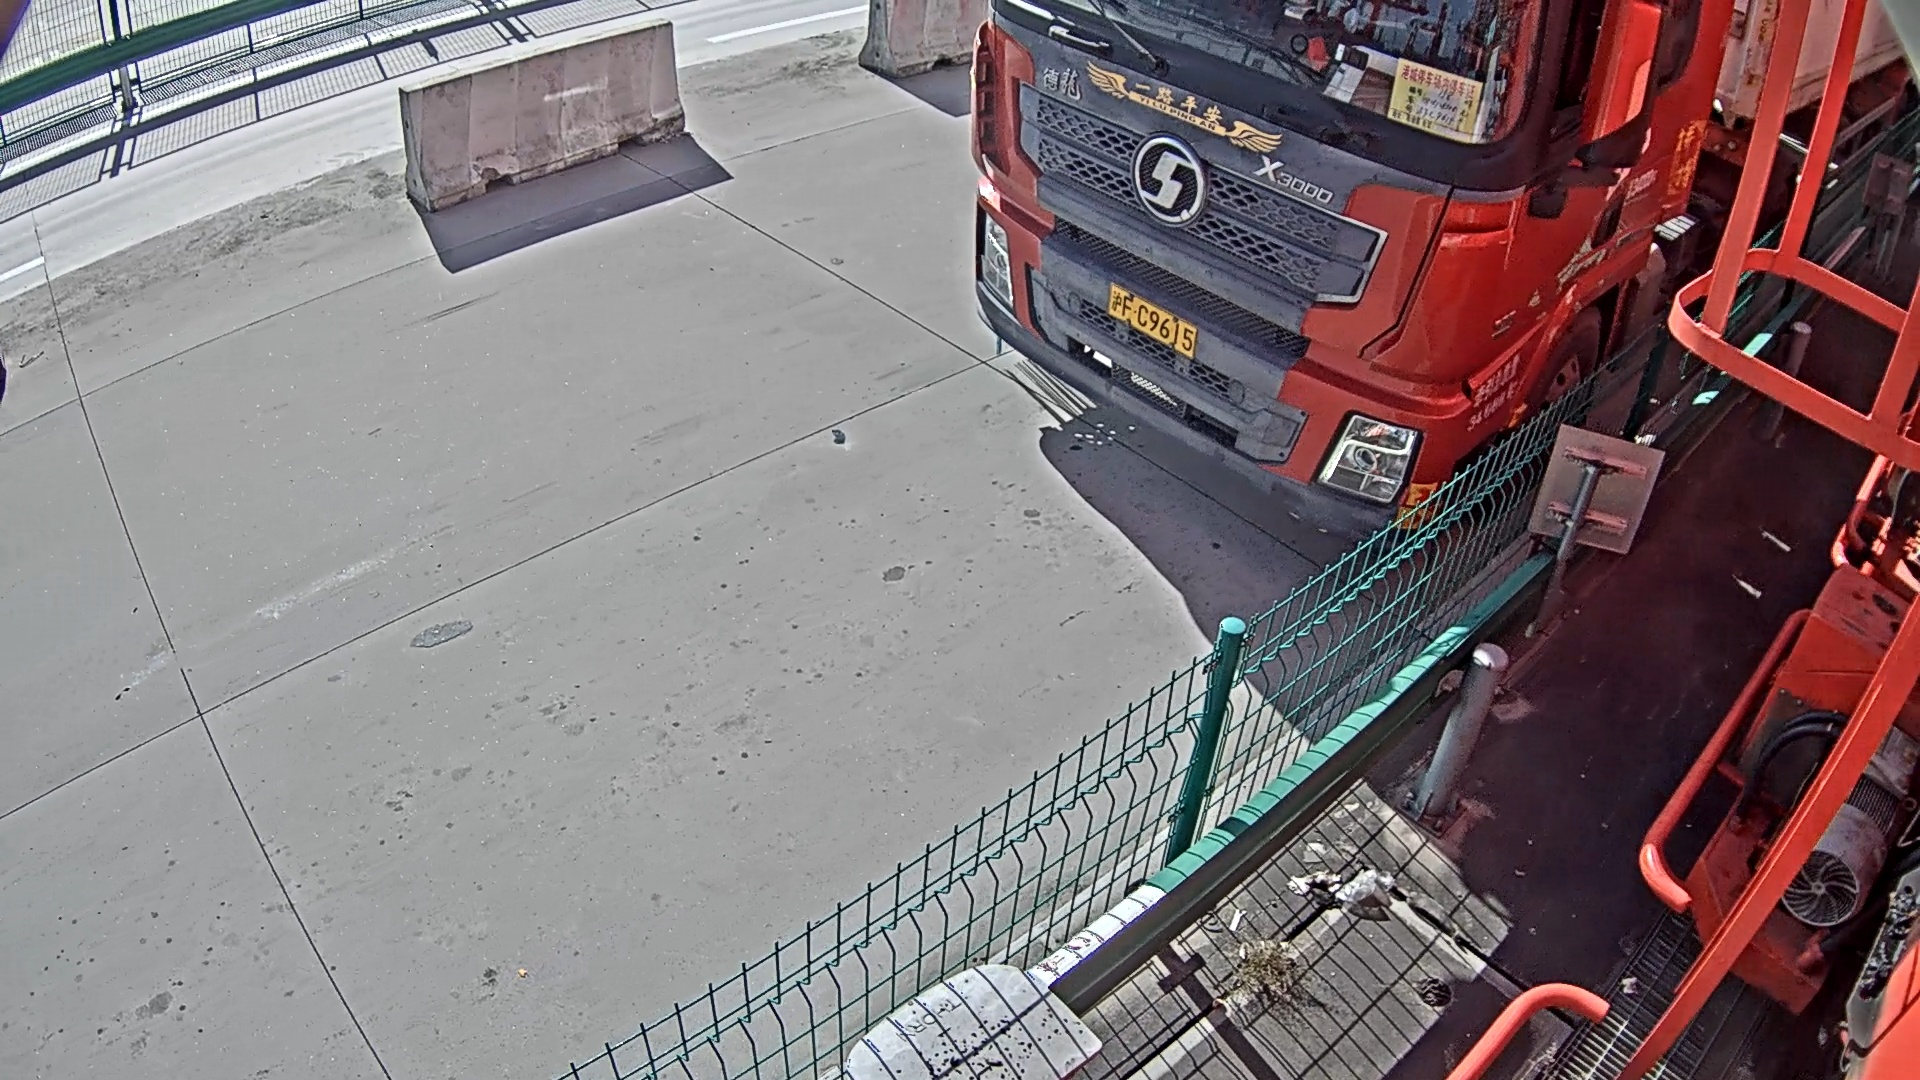head: (971, 1, 1717, 490)
plate: (1107, 281, 1200, 355)
